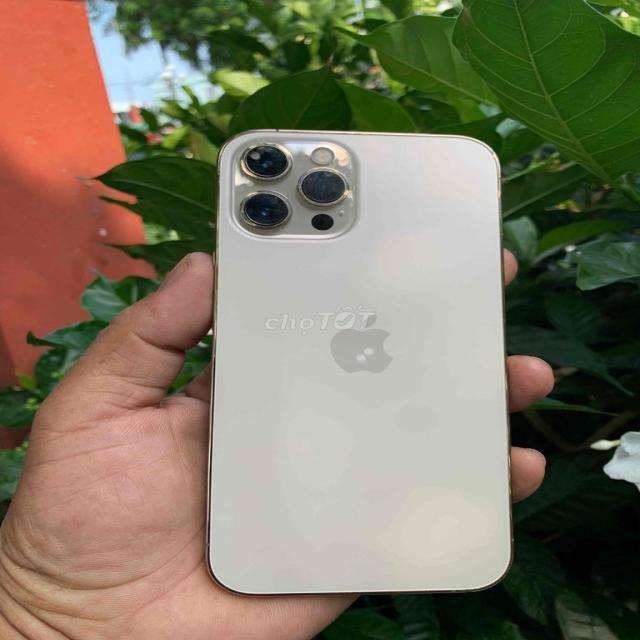gen_12_13: (200, 123, 520, 605)
